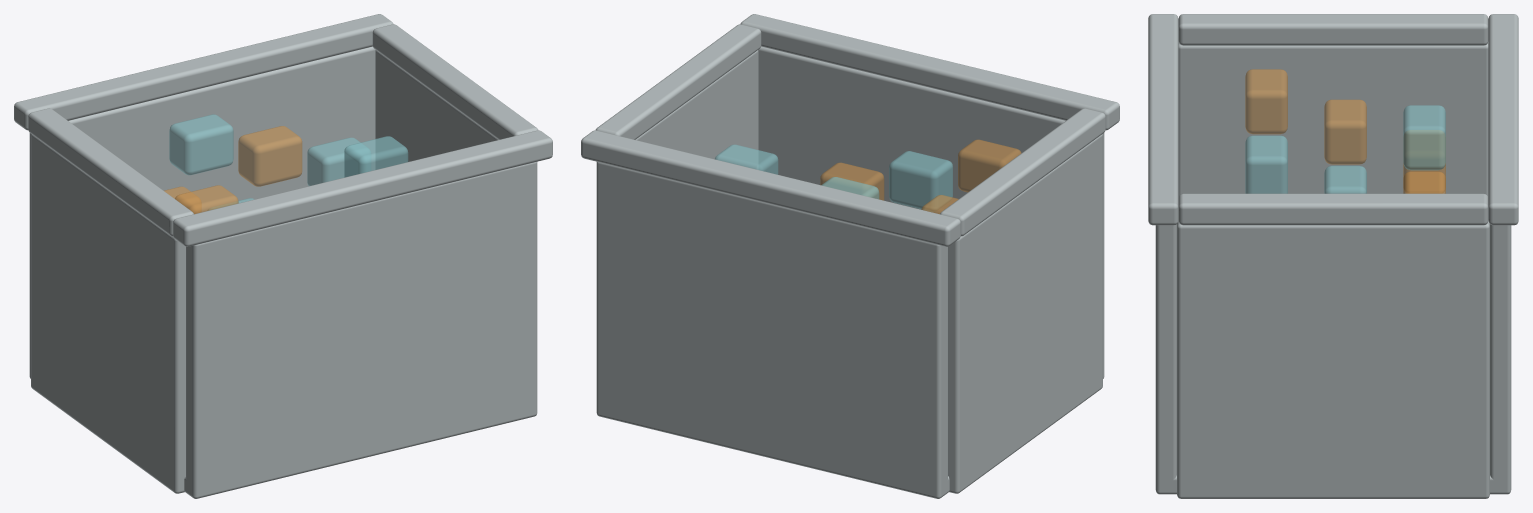
Rendered from glassblowing-studio-and-gallery-cullet-bin-9cd68bfb__29600.glb.
The picture shows the model from 3 angles, left to right: view 1: azimuth 30°, elevation 25°; view 2: azimuth 150°, elevation 25°; view 3: azimuth 270°, elevation 25°; orthographic projection. The views are drawn at different scales.
Parts seen in each view (by area): view 1: cullet-bin; view 2: cullet-bin; view 3: cullet-bin.
Boxes of the visible parts, x1,y1,x2,y2 form: cullet-bin: (14, 14, 552, 498); cullet-bin: (581, 14, 1119, 498); cullet-bin: (1148, 14, 1518, 498).
Size of the model in its own units: 0.75 by 0.54 by 0.61.
